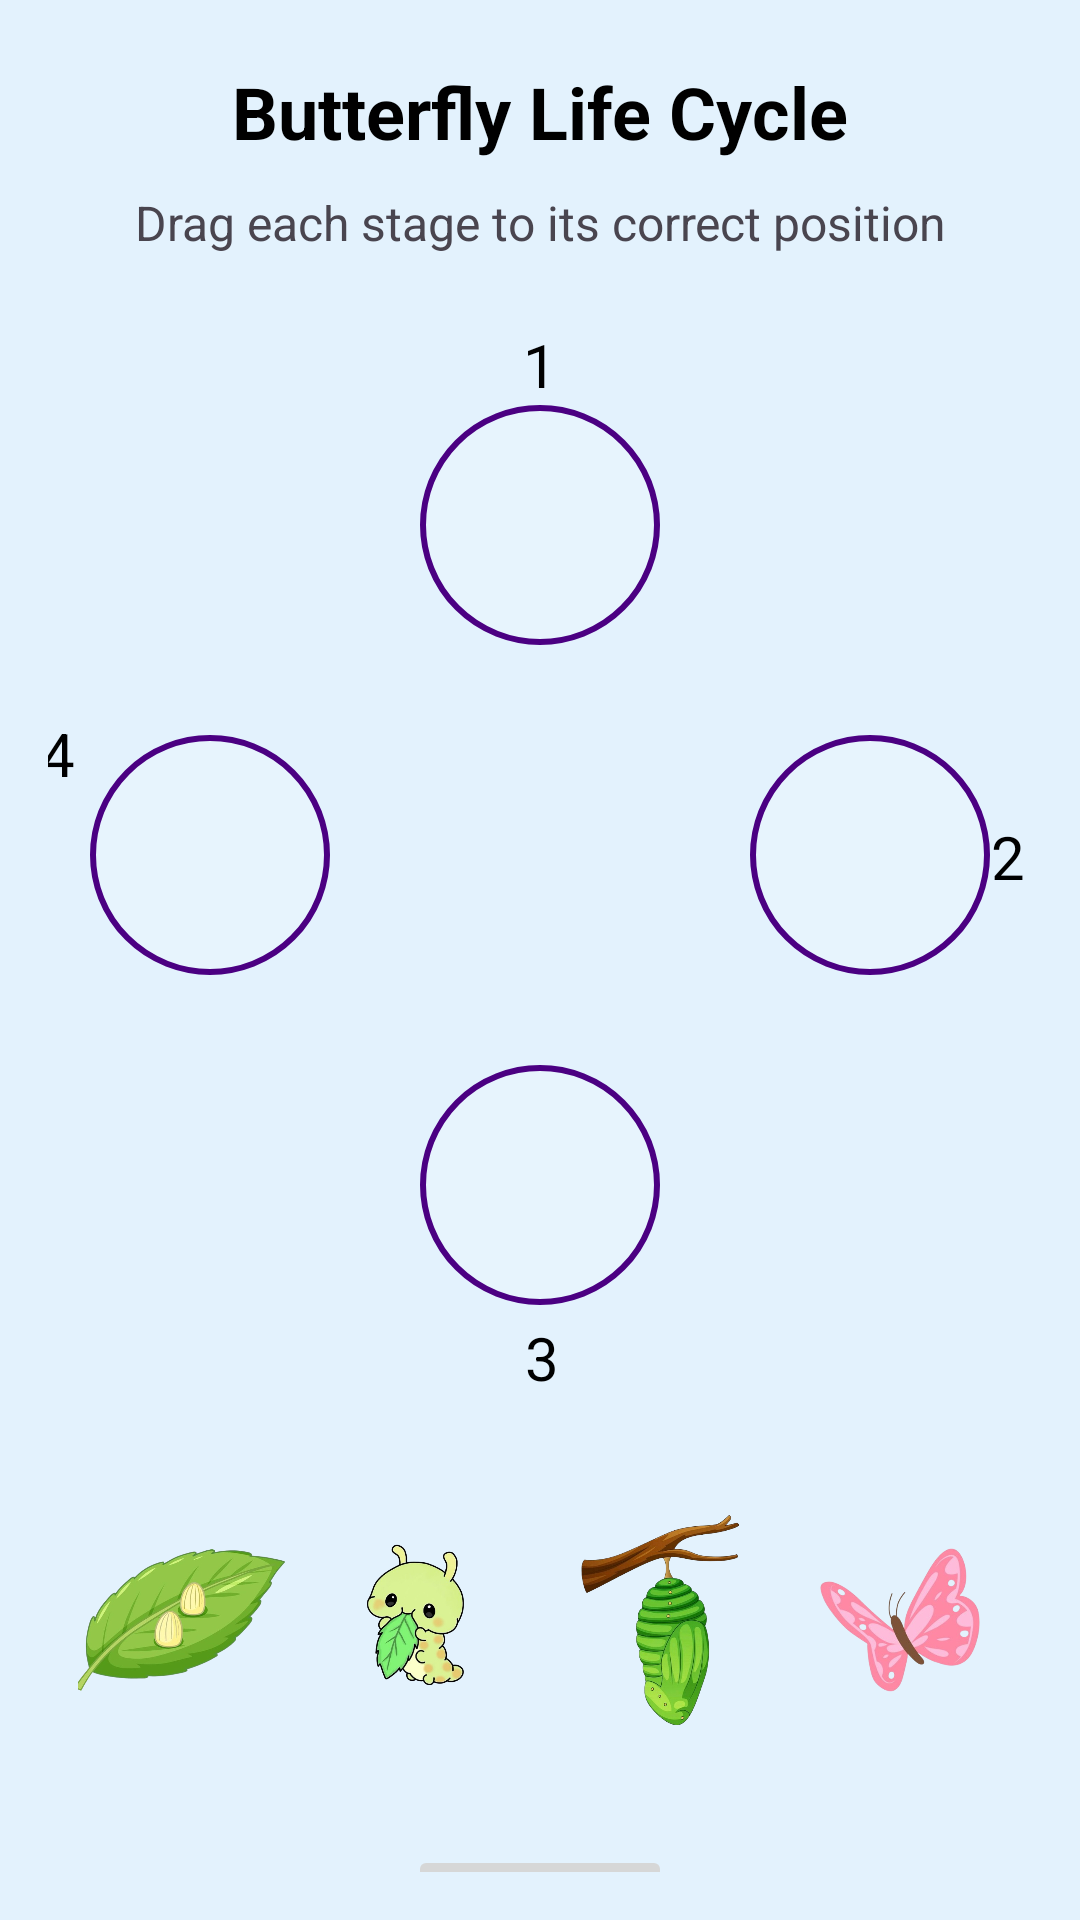

Point at icon controls on the screen. Image size 1080*1920, points as (x,y).
butterfly: (900,1620)
caterpillar: (415,1615)
eggs: (181,1620)
pupa: (660,1620)
